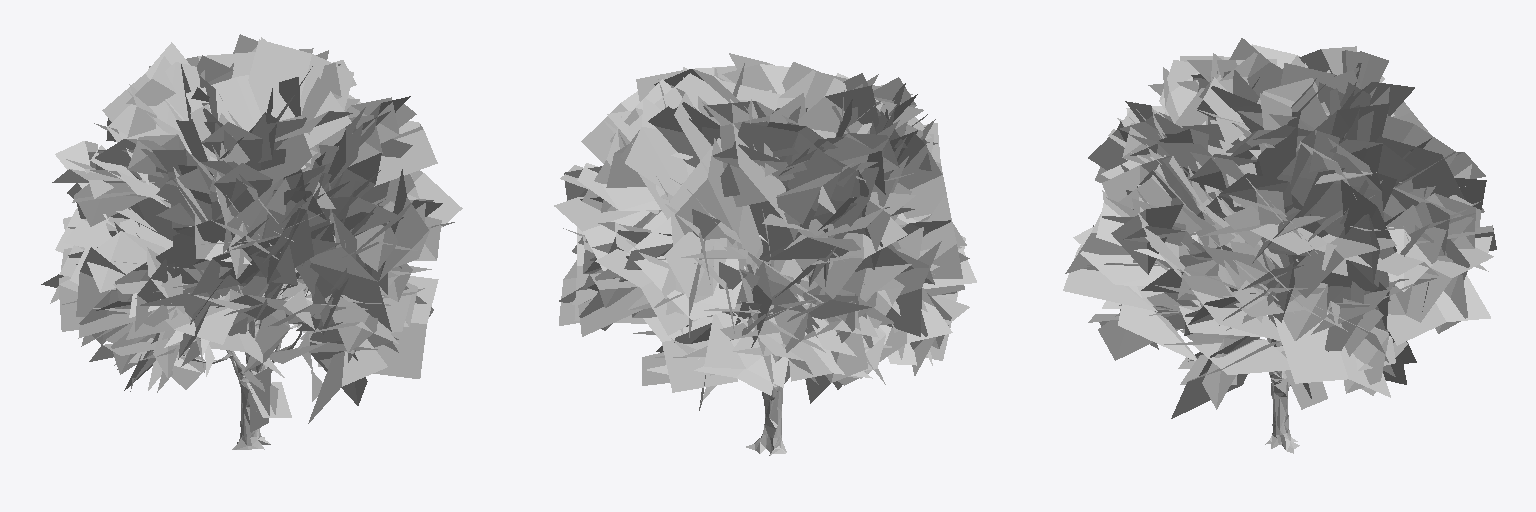
Rendered from prop_tree_jacada_01.obj.
3 renders of one model, left to right at view 1: azimuth 30°, elevation 25°; view 2: azimuth 150°, elevation 25°; view 3: azimuth 270°, elevation 25°, orthographic.
Bounding box in the file's own units: 14.19 × 14.29 × 14.72.